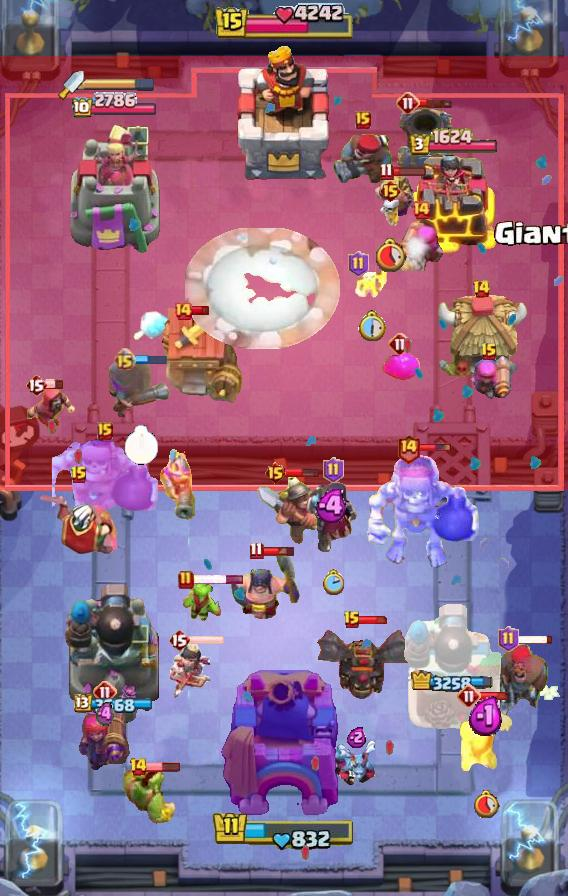bar: (192, 574, 245, 585), (188, 634, 225, 646), (145, 761, 181, 773), (418, 97, 454, 109), (261, 545, 296, 557), (133, 353, 168, 365), (517, 634, 554, 645), (284, 467, 320, 478), (391, 166, 427, 177), (418, 443, 452, 453), (479, 691, 511, 701), (358, 615, 390, 625), (45, 379, 64, 390), (191, 305, 210, 316)
bar-level: (396, 433, 421, 464), (457, 684, 481, 708), (93, 680, 117, 704), (388, 332, 412, 356), (396, 91, 420, 115), (264, 461, 287, 485), (379, 179, 402, 203), (498, 626, 519, 652), (323, 457, 344, 483), (348, 251, 369, 277), (113, 348, 136, 371), (168, 628, 190, 652), (25, 373, 47, 397), (173, 301, 193, 321), (411, 200, 431, 220), (129, 757, 148, 777), (472, 279, 491, 299), (343, 610, 361, 630), (70, 465, 88, 485), (480, 342, 498, 362), (178, 570, 194, 590), (97, 422, 113, 440), (355, 111, 371, 129), (249, 541, 264, 560), (379, 162, 394, 181)
barbarian-evolution: (371, 167, 422, 219)
cannoneer-tower: (63, 579, 165, 731), (403, 601, 503, 731)
clock: (124, 425, 159, 465), (373, 237, 407, 272), (357, 310, 386, 342), (472, 789, 500, 818), (322, 569, 344, 595)
dagger-duchess-tower: (67, 122, 161, 256)
dagger-duchess-tower-bar: (84, 77, 156, 91)
elixir: (468, 696, 505, 737), (315, 489, 351, 523), (96, 701, 114, 728), (347, 726, 367, 748)
elixir-golem-small: (380, 353, 420, 381)
executioner: (230, 547, 300, 623)
firecracker: (396, 217, 446, 271), (466, 354, 512, 404)
firecracker-evolution: (79, 698, 131, 770)
goblin: (180, 583, 222, 621)
goblin-brawler: (121, 764, 177, 824)
hunter: (494, 640, 550, 722), (331, 131, 395, 185)
ice-spirit: (133, 310, 171, 342)
king-tower: (219, 670, 349, 826), (230, 43, 338, 181)
king-tower-bar: (212, 810, 356, 852), (213, 3, 355, 43)
knight: (460, 699, 512, 775)
miner: (257, 471, 325, 547)
minion: (335, 741, 379, 787)
mortar: (395, 105, 457, 173)
musketeer: (109, 360, 173, 422), (157, 448, 195, 520)
night-witch: (304, 480, 362, 552)
princess: (169, 643, 213, 703)
queen-tower: (408, 154, 498, 256)
skeleton: (353, 262, 389, 300), (376, 195, 404, 227)
tower-bar: (408, 128, 499, 157), (71, 92, 158, 120), (411, 670, 495, 695), (74, 694, 155, 715)
wizard: (27, 385, 79, 435)
